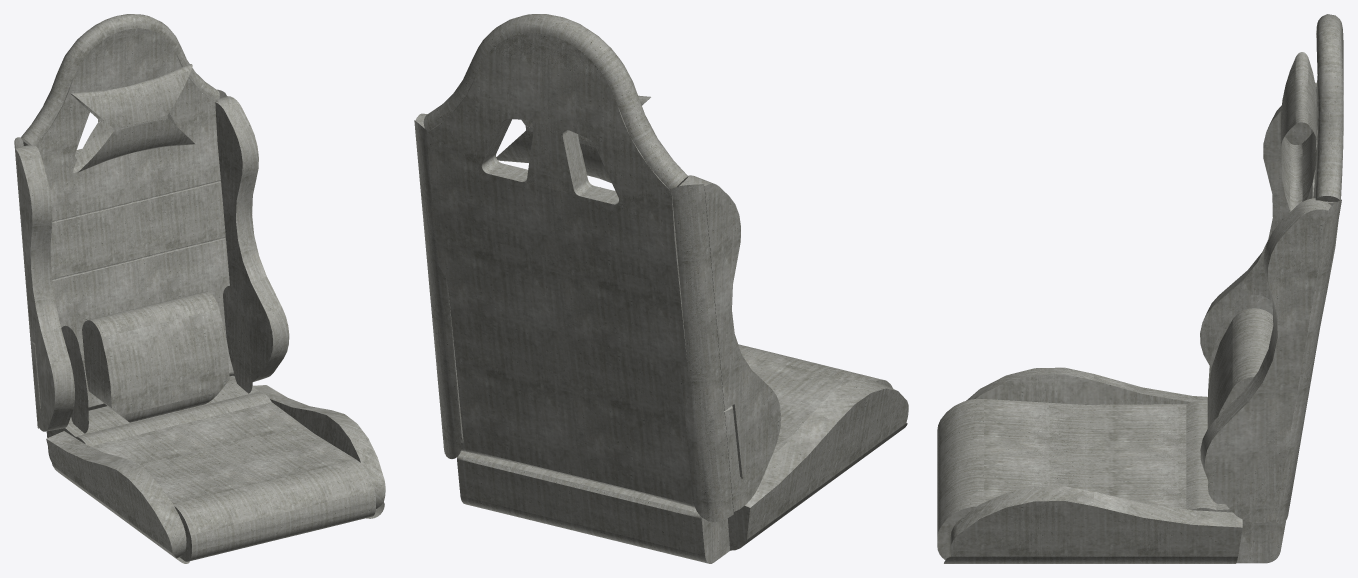
The model's file is Blks_-_Leather_-_Black.obj.
The picture shows the model from 3 angles, left to right: view 1: azimuth 30°, elevation 25°; view 2: azimuth 150°, elevation 25°; view 3: azimuth 270°, elevation 25°; orthographic projection. The views are drawn at different scales.
Bounding box in the file's own units: 0.5098 × 0.847 × 0.6397.
1 material, 1 textured.
